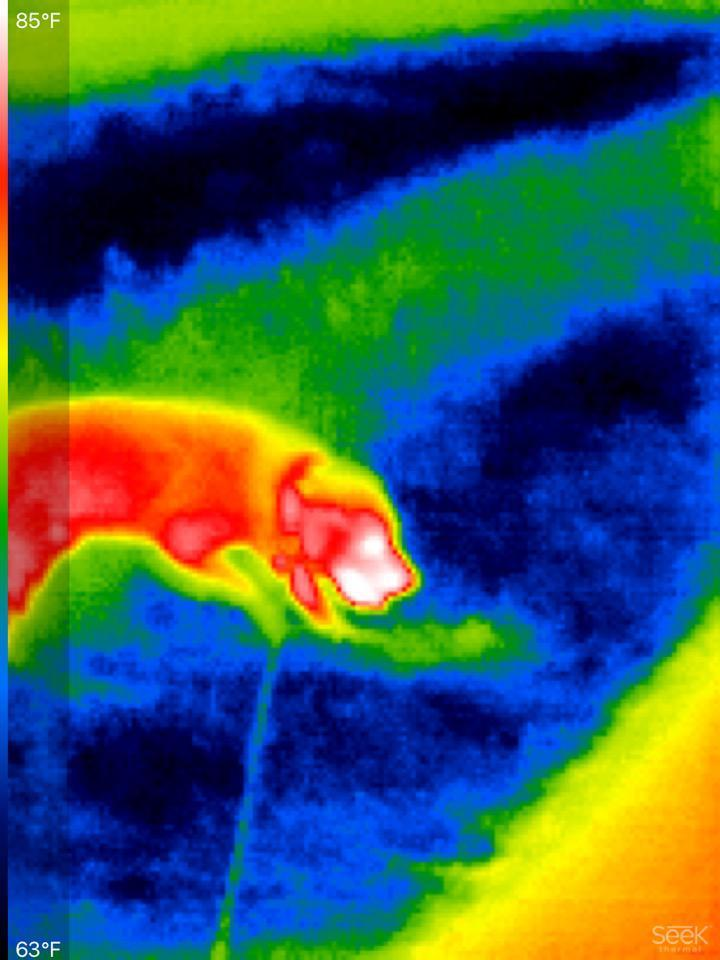dog: (11, 393, 434, 672)
